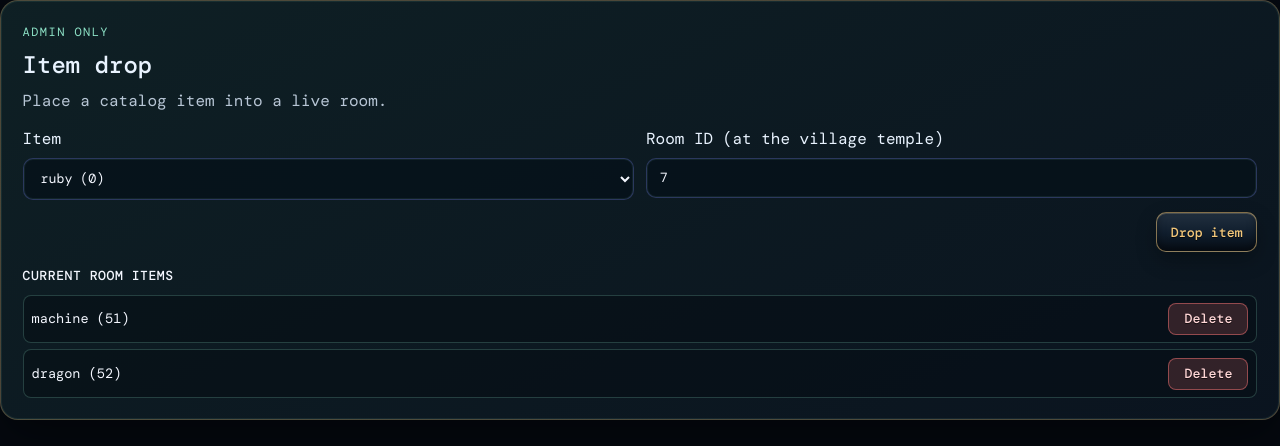
Scenario: AdminDropItemPanel › deletes one listed room object by slot
The image size is (1280, 446).
Click the button with aria-label "delete dragon from room slot 2". click: [1208, 374]
box: top-left (1168, 358), bottom-right (1248, 390)
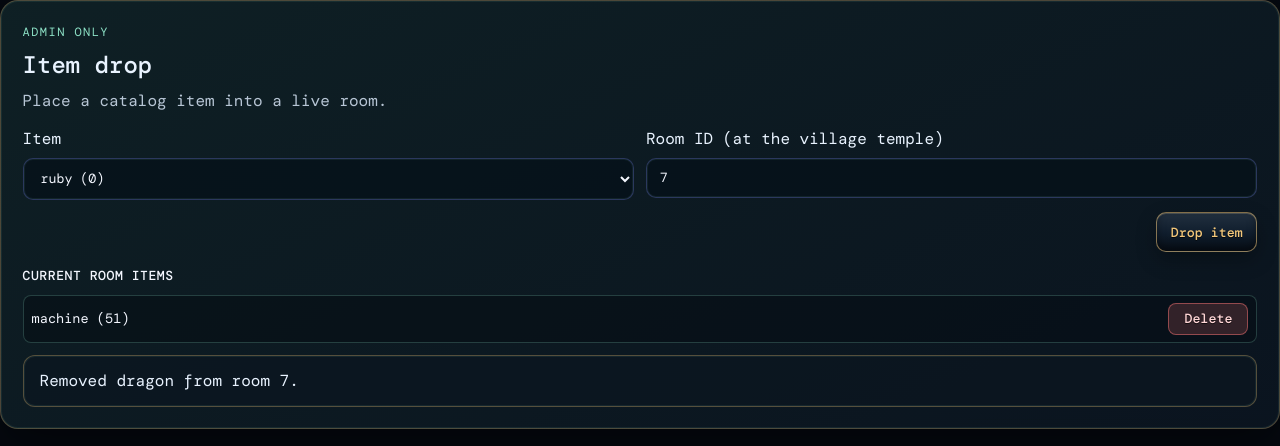
Result: the text "Removed dragon from room 7." is shown at top-left (23, 355), bottom-right (1257, 407)
